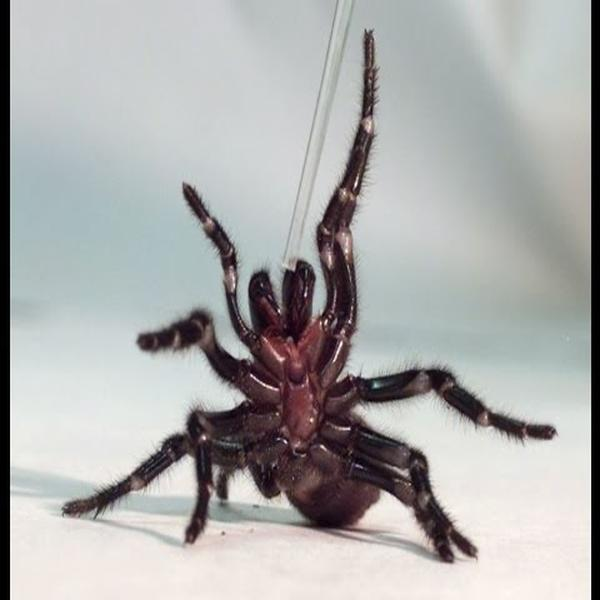Sydney_Funnel_Web_Spider: (62, 31, 555, 565)
